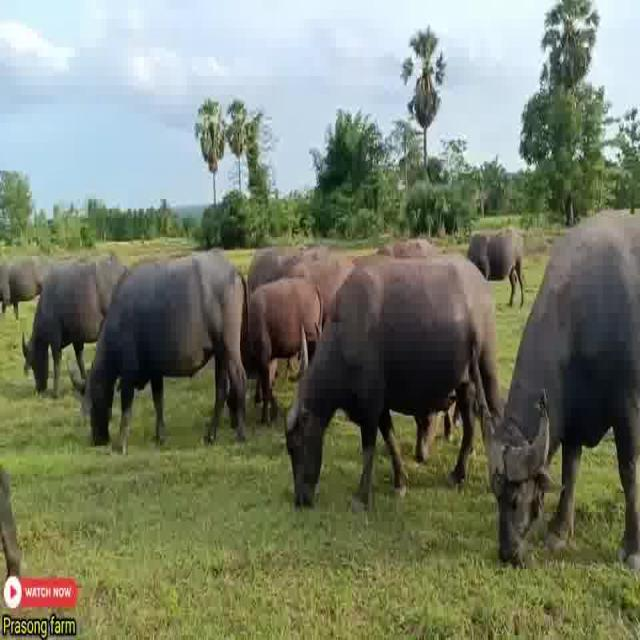buffalo: (287, 249, 503, 516), (490, 203, 639, 581), (80, 246, 251, 452), (242, 274, 324, 414), (465, 218, 530, 306)
